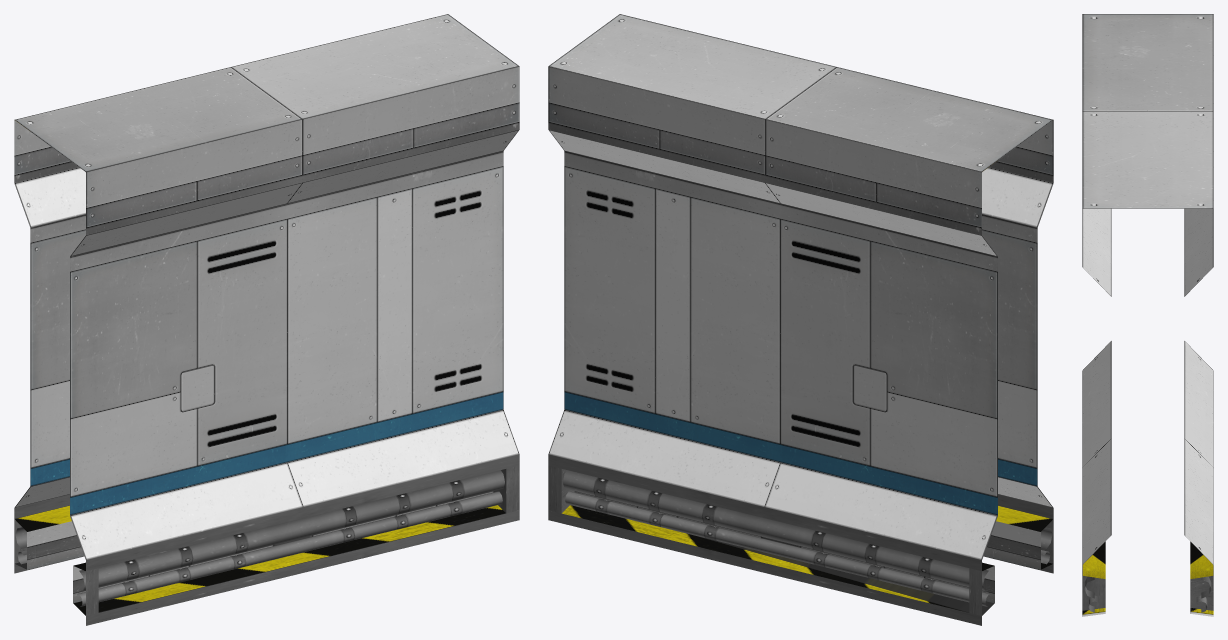
The model's file is Wall_Short_01.FBX.
3 views of the same model, side by side, from view 1: azimuth 30°, elevation 25°; view 2: azimuth 150°, elevation 25°; view 3: azimuth 270°, elevation 25° (orthographic). The views are drawn at different scales.
Visible parts, largest first — view 1: Wall_Short_01; view 2: Wall_Short_01; view 3: Wall_Short_01.
Part boxes in pixels (x1,y1,x2,y2): Wall_Short_01: [14, 14, 519, 625]; Wall_Short_01: [548, 14, 1053, 625]; Wall_Short_01: [1082, 14, 1213, 616].
Bounding box in the file's own units: 140 × 140 × 40.03.
